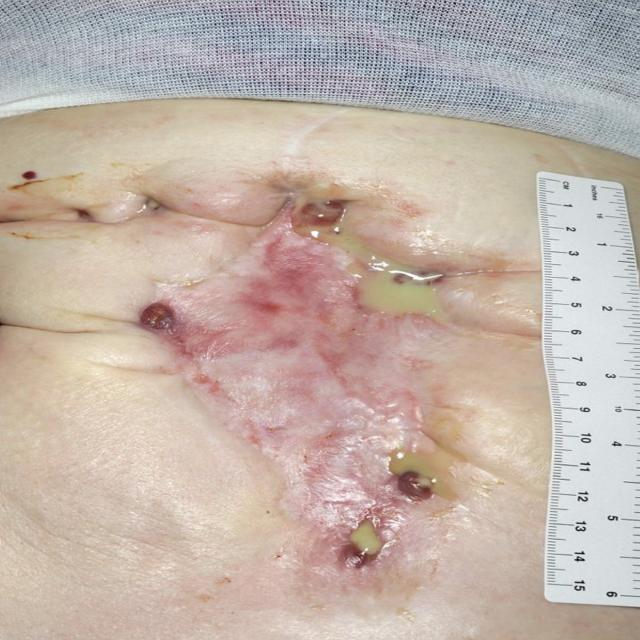wound: (136, 196, 499, 602)
